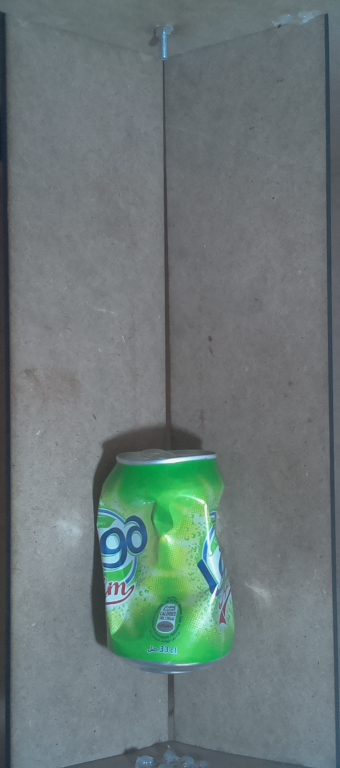Canette: (89, 434, 246, 683)
